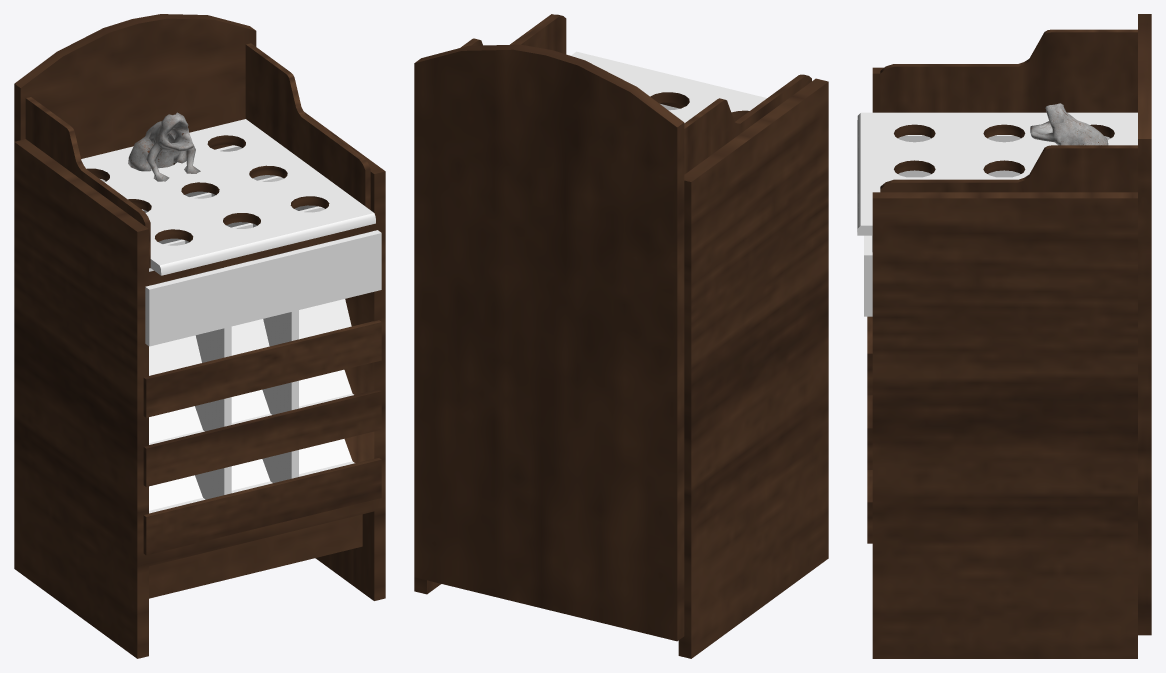
The model's file is Sapo2.fbx.
3 renders of one model, left to right at view 1: azimuth 30°, elevation 25°; view 2: azimuth 150°, elevation 25°; view 3: azimuth 270°, elevation 25°, orthographic. The views are drawn at different scales.
Parts seen in each view (by area): view 1: Base, Blanco, CajonPuntaje, Plane; view 2: Base, Blanco; view 3: Base, Blanco, Plane, CajonPuntaje.
Boxes of the visible parts, box(x1,y1,x2,y2) form: Base: box(14, 14, 385, 658); Blanco: box(81, 119, 375, 275); CajonPuntaje: box(100, 145, 381, 346); Plane: box(128, 112, 200, 181); Base: box(414, 14, 828, 658); Blanco: box(571, 51, 766, 122); Base: box(867, 14, 1151, 658); Blanco: box(857, 112, 1137, 235); Plane: box(1030, 103, 1108, 145); CajonPuntaje: box(864, 135, 1110, 316).
Size of the model in its own units: 59.9 by 119 by 57.05.
